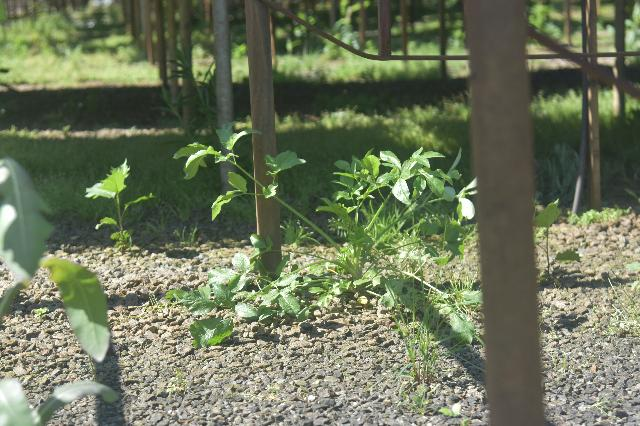MalezaMontesDelPlata: (172, 119, 346, 265), (173, 235, 362, 345), (324, 146, 452, 294), (378, 282, 465, 398), (42, 247, 118, 369), (82, 150, 158, 257), (0, 155, 53, 292), (0, 372, 123, 426), (526, 198, 586, 285), (567, 206, 633, 231)
